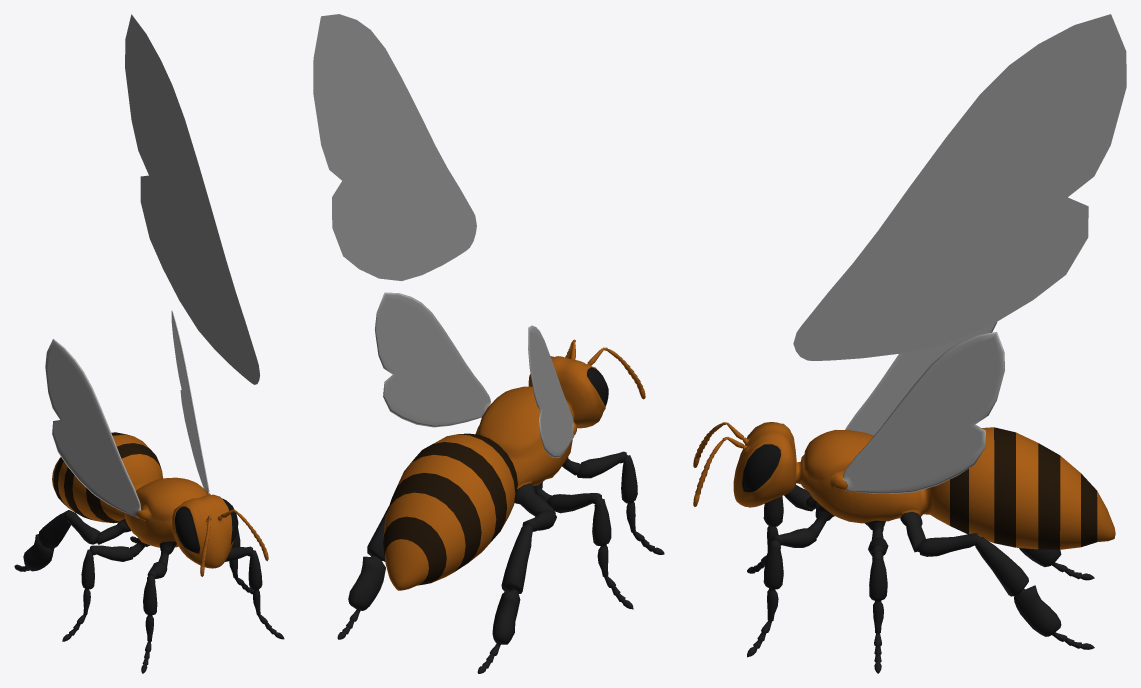
Rendered from bee.obj.
3 views of the same model, side by side, from view 1: azimuth 30°, elevation 25°; view 2: azimuth 150°, elevation 25°; view 3: azimuth 270°, elevation 25° (orthographic). The views are drawn at different scales.
Parts seen in each view (by area): view 1: bee, wing_copy; view 2: bee, wing_copy; view 3: wing_copy, bee.
Part boxes in pixels (x1,y1,x2,y2): bee: (14, 310, 284, 673); wing_copy: (125, 14, 259, 384); bee: (337, 292, 664, 673); wing_copy: (313, 14, 476, 281); wing_copy: (793, 14, 1126, 360); bee: (693, 322, 1115, 673).
Size of the model in its own units: 0.0121 by 0.0305 by 0.0187.
